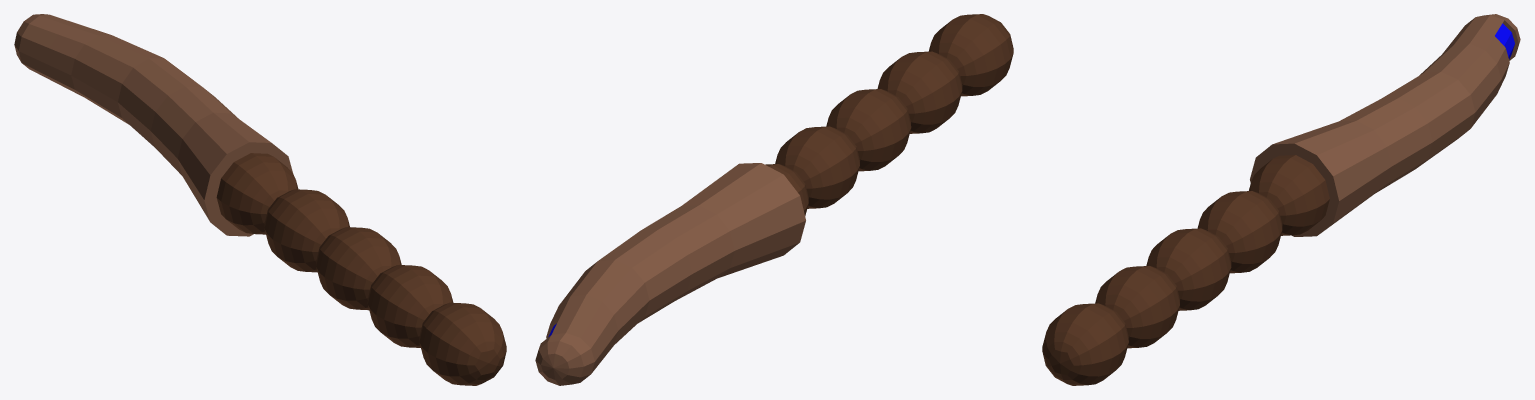
File: Wand 22.glb
The picture shows the model from 3 angles, left to right: view 1: azimuth 30°, elevation 25°; view 2: azimuth 150°, elevation 25°; view 3: azimuth 330°, elevation 25°; orthographic projection.
Visible parts, largest first — view 1: GeneratedWand; view 2: GeneratedWand; view 3: GeneratedWand.
Part boxes in pixels (x1=…): GeneratedWand: x1=14, y1=14, x2=506, y2=385; GeneratedWand: x1=535, y1=14, x2=1013, y2=385; GeneratedWand: x1=1042, y1=14, x2=1520, y2=385.
Size of the model in its own units: 0.0644 by 0.0572 by 0.4987.
